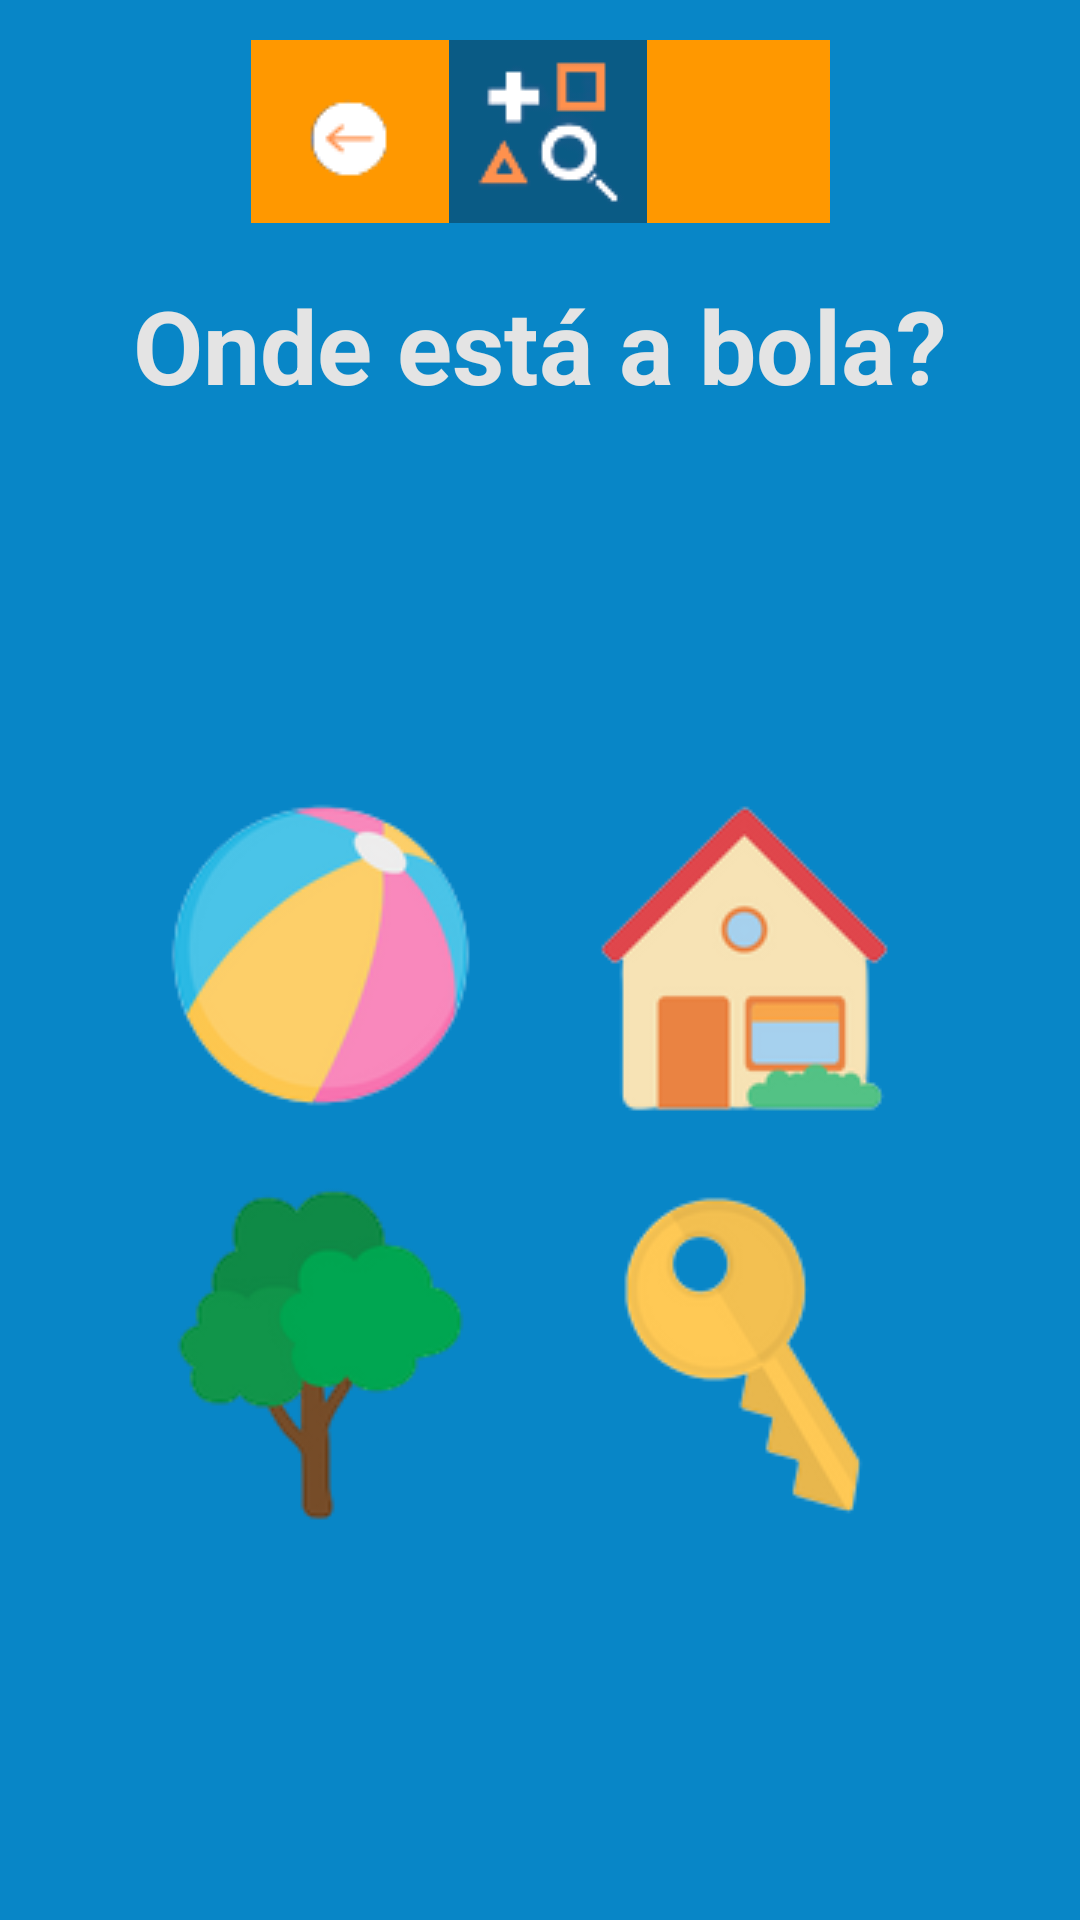

Icons on this 1080×1920 Android screen, each with its box as region(x1, y1, x2, y2):
ball: region(172, 805, 470, 1105)
house: region(601, 806, 888, 1111)
key: region(624, 1197, 860, 1513)
tree: region(178, 1191, 463, 1520)
